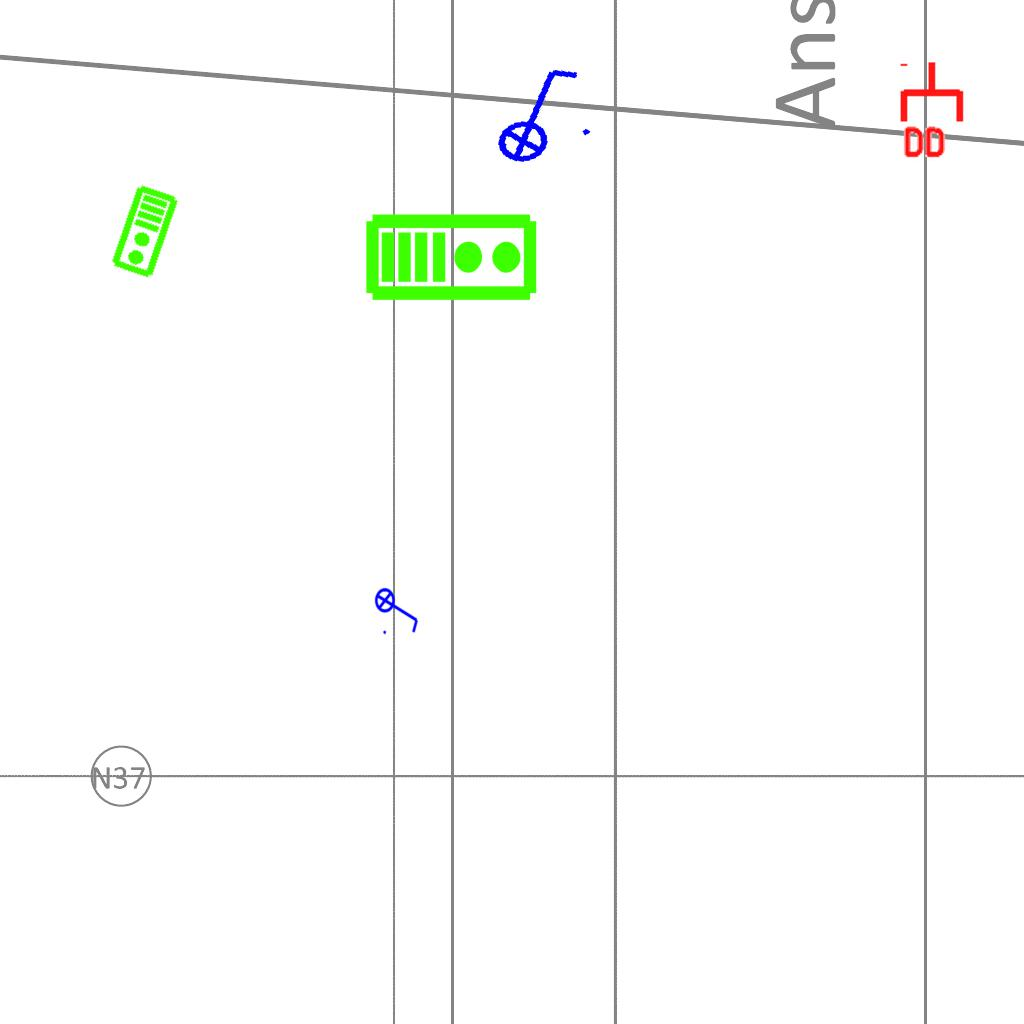Ausschalter_beleuchtet: (473, 56, 599, 170), (374, 581, 422, 637)
Datenanschluss_zweifach: (899, 59, 968, 162)
Gegensprechanlage_mit_Video: (364, 208, 540, 303), (108, 182, 183, 282)
